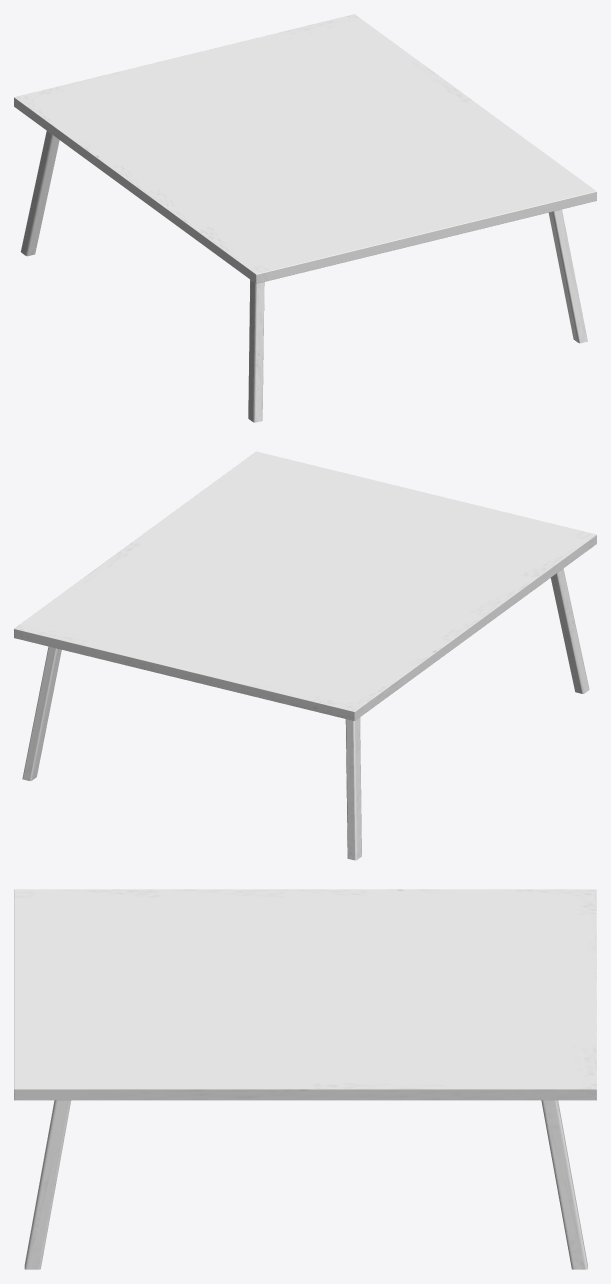
The model's file is table_1.glb.
The picture shows the model from 3 angles, top to bottom: view 1: azimuth 30°, elevation 25°; view 2: azimuth 150°, elevation 25°; view 3: azimuth 270°, elevation 25°; orthographic projection. The views are drawn at different scales.
Visible parts, largest first — view 1: table_1; view 2: table_1; view 3: table_1.
Part boxes in pixels (x1,y1,x2,y2): table_1: (14, 14, 596, 422); table_1: (14, 451, 596, 860); table_1: (14, 889, 596, 1269).
Size of the model in its own units: 3.5 by 1.49 by 4.31.
1 material, 1 textured.
